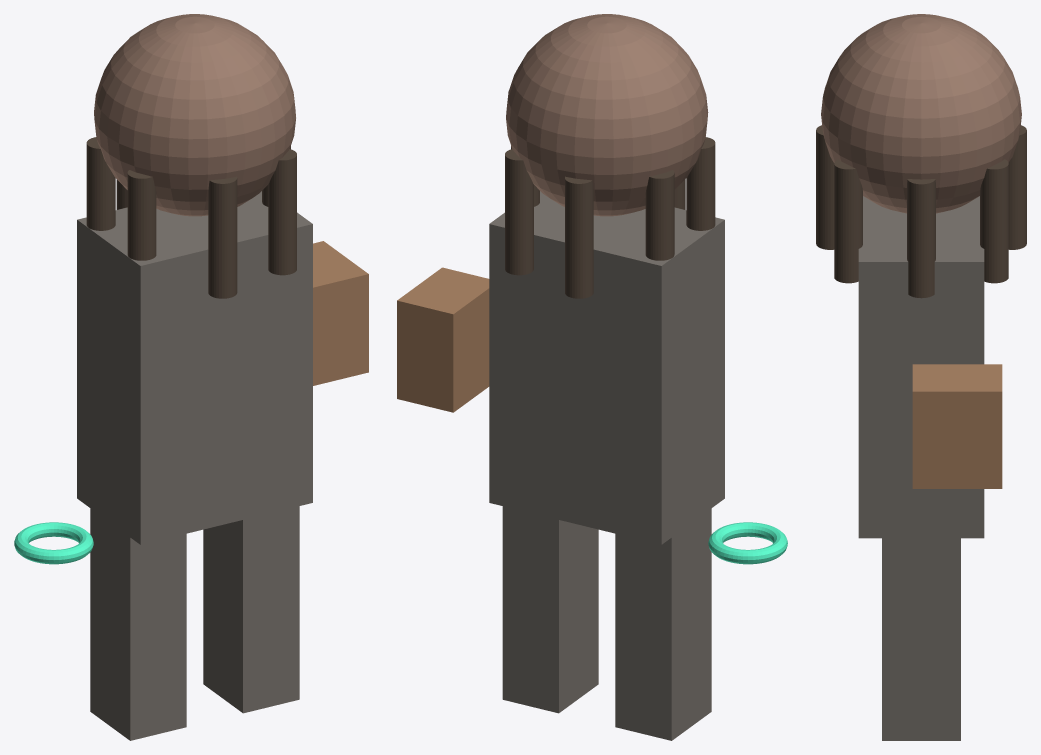
Rendered from thomas-placeholder.glb.
3 views of the same model, side by side, from view 1: azimuth 30°, elevation 25°; view 2: azimuth 150°, elevation 25°; view 3: azimuth 270°, elevation 25° (orthographic).
Visible parts, largest first — view 1: Thomas_Torso, Thomas_Head, Thomas_Leg_L, Thomas_Leg_R, Thomas_Satchel, Thomas_Dread_5, Thomas_Dread_6, Thomas_Dread_4, Thomas_Dread_3, Thomas_Bracelet; view 2: Thomas_Torso, Thomas_Head, Thomas_Leg_L, Thomas_Leg_R, Thomas_Satchel, Thomas_Dread_2, Thomas_Dread_1, Thomas_Dread_3, Thomas_Dread_4, Thomas_Bracelet; view 3: Thomas_Torso, Thomas_Head, Thomas_Leg_R, Thomas_Satchel, Thomas_Dread_0, Thomas_Dread_1, Thomas_Dread_6, Thomas_Dread_2, Thomas_Dread_5.
Boxes of the visible parts, x1,y1,x2,y2 form: Thomas_Torso: [77, 191, 312, 544]; Thomas_Head: [94, 14, 295, 216]; Thomas_Leg_L: [90, 508, 186, 740]; Thomas_Leg_R: [203, 506, 299, 713]; Thomas_Satchel: [313, 241, 368, 385]; Thomas_Dread_5: [208, 176, 237, 298]; Thomas_Dread_6: [268, 149, 296, 275]; Thomas_Dread_4: [127, 170, 156, 260]; Thomas_Dread_3: [86, 137, 115, 230]; Thomas_Bracelet: [14, 522, 93, 564]; Thomas_Torso: [489, 191, 724, 544]; Thomas_Head: [506, 14, 708, 216]; Thomas_Leg_L: [615, 508, 711, 740]; Thomas_Leg_R: [502, 506, 598, 713]; Thomas_Satchel: [397, 267, 489, 412]; Thomas_Dread_2: [565, 176, 593, 298]; Thomas_Dread_1: [505, 149, 533, 275]; Thomas_Dread_3: [645, 170, 674, 260]; Thomas_Dread_4: [686, 137, 715, 230]; Thomas_Bracelet: [708, 522, 787, 564]; Thomas_Torso: [858, 196, 984, 538]; Thomas_Head: [821, 14, 1021, 213]; Thomas_Leg_R: [882, 538, 960, 740]; Thomas_Satchel: [912, 364, 1002, 488]; Thomas_Dread_0: [907, 179, 935, 298]; Thomas_Dread_1: [980, 159, 1008, 283]; Thomas_Dread_6: [834, 159, 862, 283]; Thomas_Dread_2: [1008, 125, 1026, 249]; Thomas_Dread_5: [816, 125, 834, 249].
Size of the model in its own units: 1.1 by 2.08 by 0.587.
